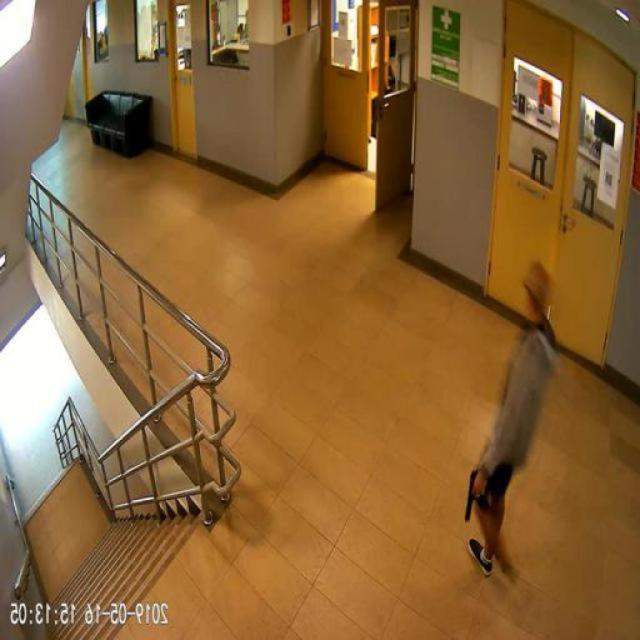pistol: (467, 468, 485, 520)
